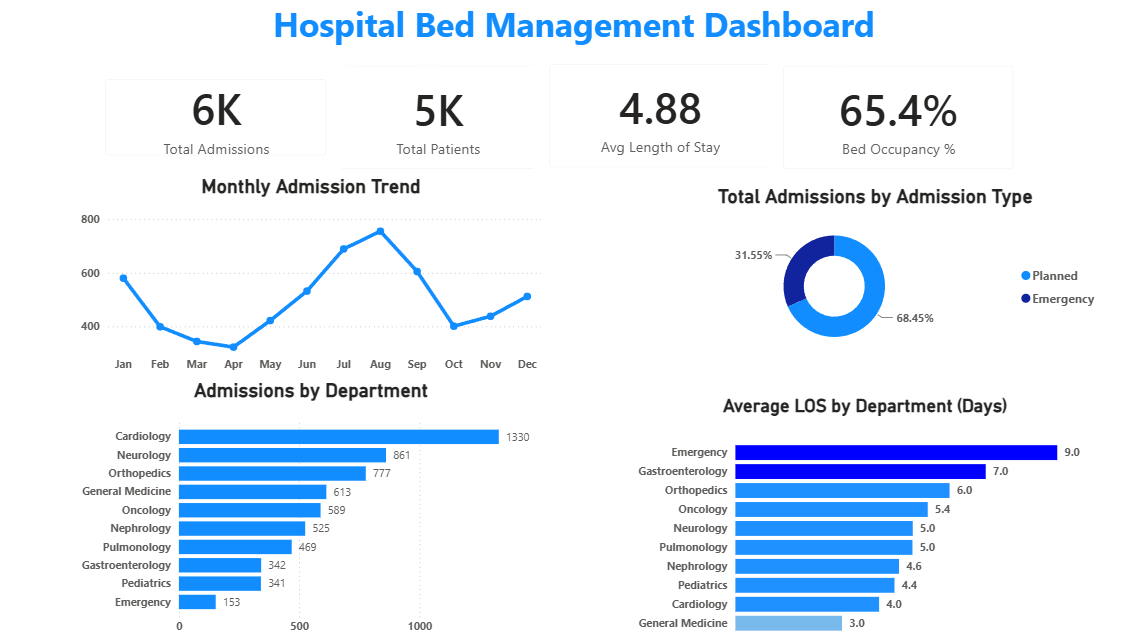

What the dashboard file says about the page in this screenshot:
{"tool":"powerbi","page":{"name":"Executive Overview","canvas":[1280,720],"ordinal":0},"visuals":[{"type":"textbox","box":[0,0,1279.5,119.7],"z":0},{"type":"cardVisual","title":"Total Patue","fields":{"Data":["Measures1.Total Patients"]},"box":[348.3,60.6,280,149.9],"z":1000},{"type":"cardVisual","fields":{"Data":["Measures1.Avg Length of Stay"]},"box":[595.1,59.1,280,149.9],"z":2000},{"type":"cardVisual","fields":{"Data":["Measures1.Total Admissions"]},"box":[101.5,74.2,280.1,119.6],"z":3000},{"type":"cardVisual","fields":{"Data":["Measures1.Bed Occupancy %"]},"box":[855.5,60.6,290.7,149.9],"z":4000},{"type":"lineChart","title":"Monthly Admission Trend","fields":{"Category":["Calendar.Month"],"Y":["Measures1.Total Admissions"]},"box":[86.3,198.4,522.4,228.6],"z":5000},{"type":"clusteredBarChart","title":"Admissions by Department","fields":{"Category":["hospital_bed_management departments.Department_Name"],"Y":["Measures1.Total Admissions"]},"box":[86.3,425.5,522.4,293.8],"z":6000},{"type":"donutChart","title":"Total Admissions by Admission Type","fields":{"Category":["hospital_bed_management admissions.Admission_Type"],"Y":["Measures1.Total Admissions"]},"box":[716.7,210,516.3,189.3],"z":7000},{"type":"clusteredBarChart","title":"Average LOS by Department (Days)","fields":{"Y":["Calendar.Average LOS by Department"],"Category":["hospital_bed_management departments.Department_Name"]},"box":[705.6,443.7,516.3,275.6],"z":8000}]}

Visuals, with their boxes in screenshot pixels (x1, y1, x2, y2), scaled from the page's 1280x720 canvas onto the 1138x637 screenshot:
textbox: <region>0, 0, 1137, 106</region>
"Total Patue" cardVisual: <region>310, 54, 559, 186</region>
cardVisual - Measures1.Avg Length of Stay: <region>529, 52, 778, 185</region>
cardVisual - Measures1.Total Admissions: <region>90, 66, 339, 171</region>
cardVisual - Measures1.Bed Occupancy %: <region>761, 54, 1019, 186</region>
"Monthly Admission Trend" lineChart: <region>77, 176, 541, 378</region>
"Admissions by Department" clusteredBarChart: <region>77, 376, 541, 636</region>
"Total Admissions by Admission Type" donutChart: <region>637, 186, 1096, 353</region>
"Average LOS by Department (Days)" clusteredBarChart: <region>627, 393, 1086, 636</region>
